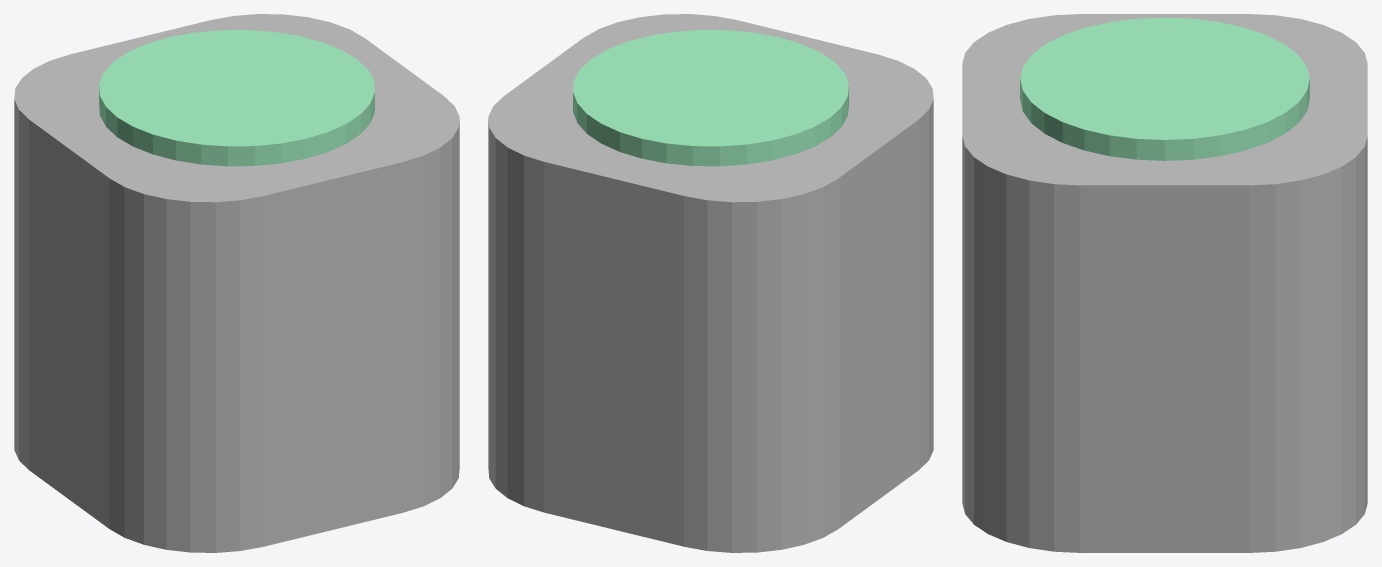
Rendered from caja.obj.
3 renders of one model, left to right at view 1: azimuth 30°, elevation 25°; view 2: azimuth 150°, elevation 25°; view 3: azimuth 270°, elevation 25°, orthographic. The views are drawn at different scales.
Parts seen in each view (by area): view 1: Cube, Cilindro; view 2: Cube, Cilindro; view 3: Cube, Cilindro.
Boxes of the visible parts, left/top/right/bottom form: Cube: left=14, top=14, right=459, bottom=552; Cilindro: left=99, top=30, right=374, bottom=166; Cube: left=488, top=14, right=933, bottom=552; Cilindro: left=573, top=30, right=848, bottom=166; Cube: left=962, top=14, right=1367, bottom=552; Cilindro: left=1020, top=17, right=1309, bottom=160.
Size of the model in its own units: 2 by 2.11 by 2.
